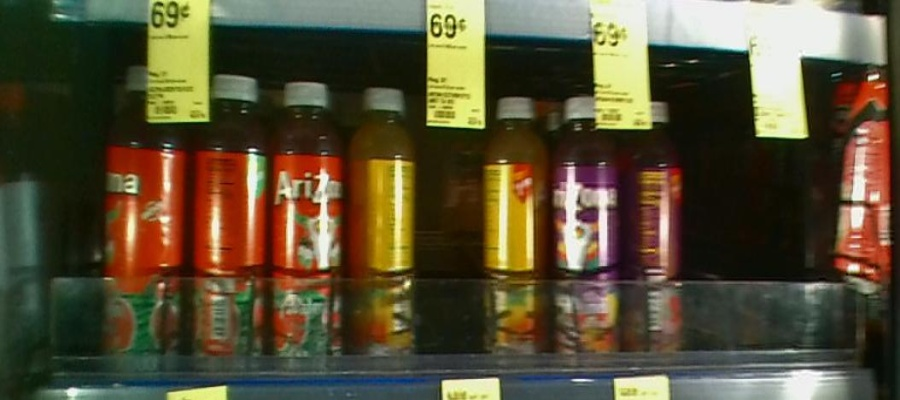bottle: (97, 57, 193, 388), (272, 67, 348, 373), (196, 65, 268, 379), (552, 87, 622, 380), (481, 90, 551, 379), (351, 79, 415, 389), (625, 81, 687, 380)
